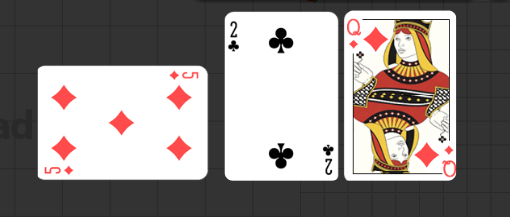2C: (321, 142, 334, 176)
9D: (42, 163, 75, 175)
QD: (400, 134, 444, 181), (333, 14, 377, 60)
